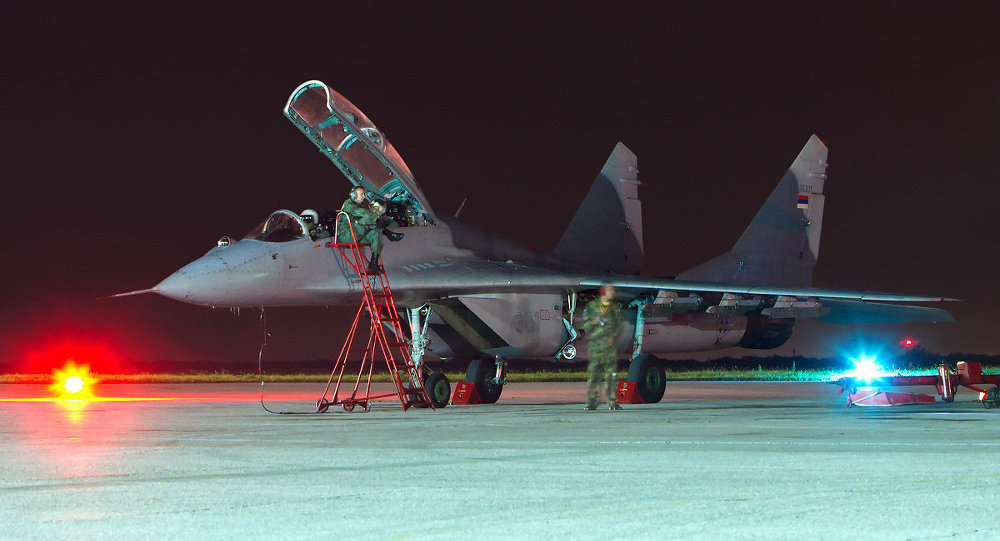Mig-29: (89, 47, 950, 473)
